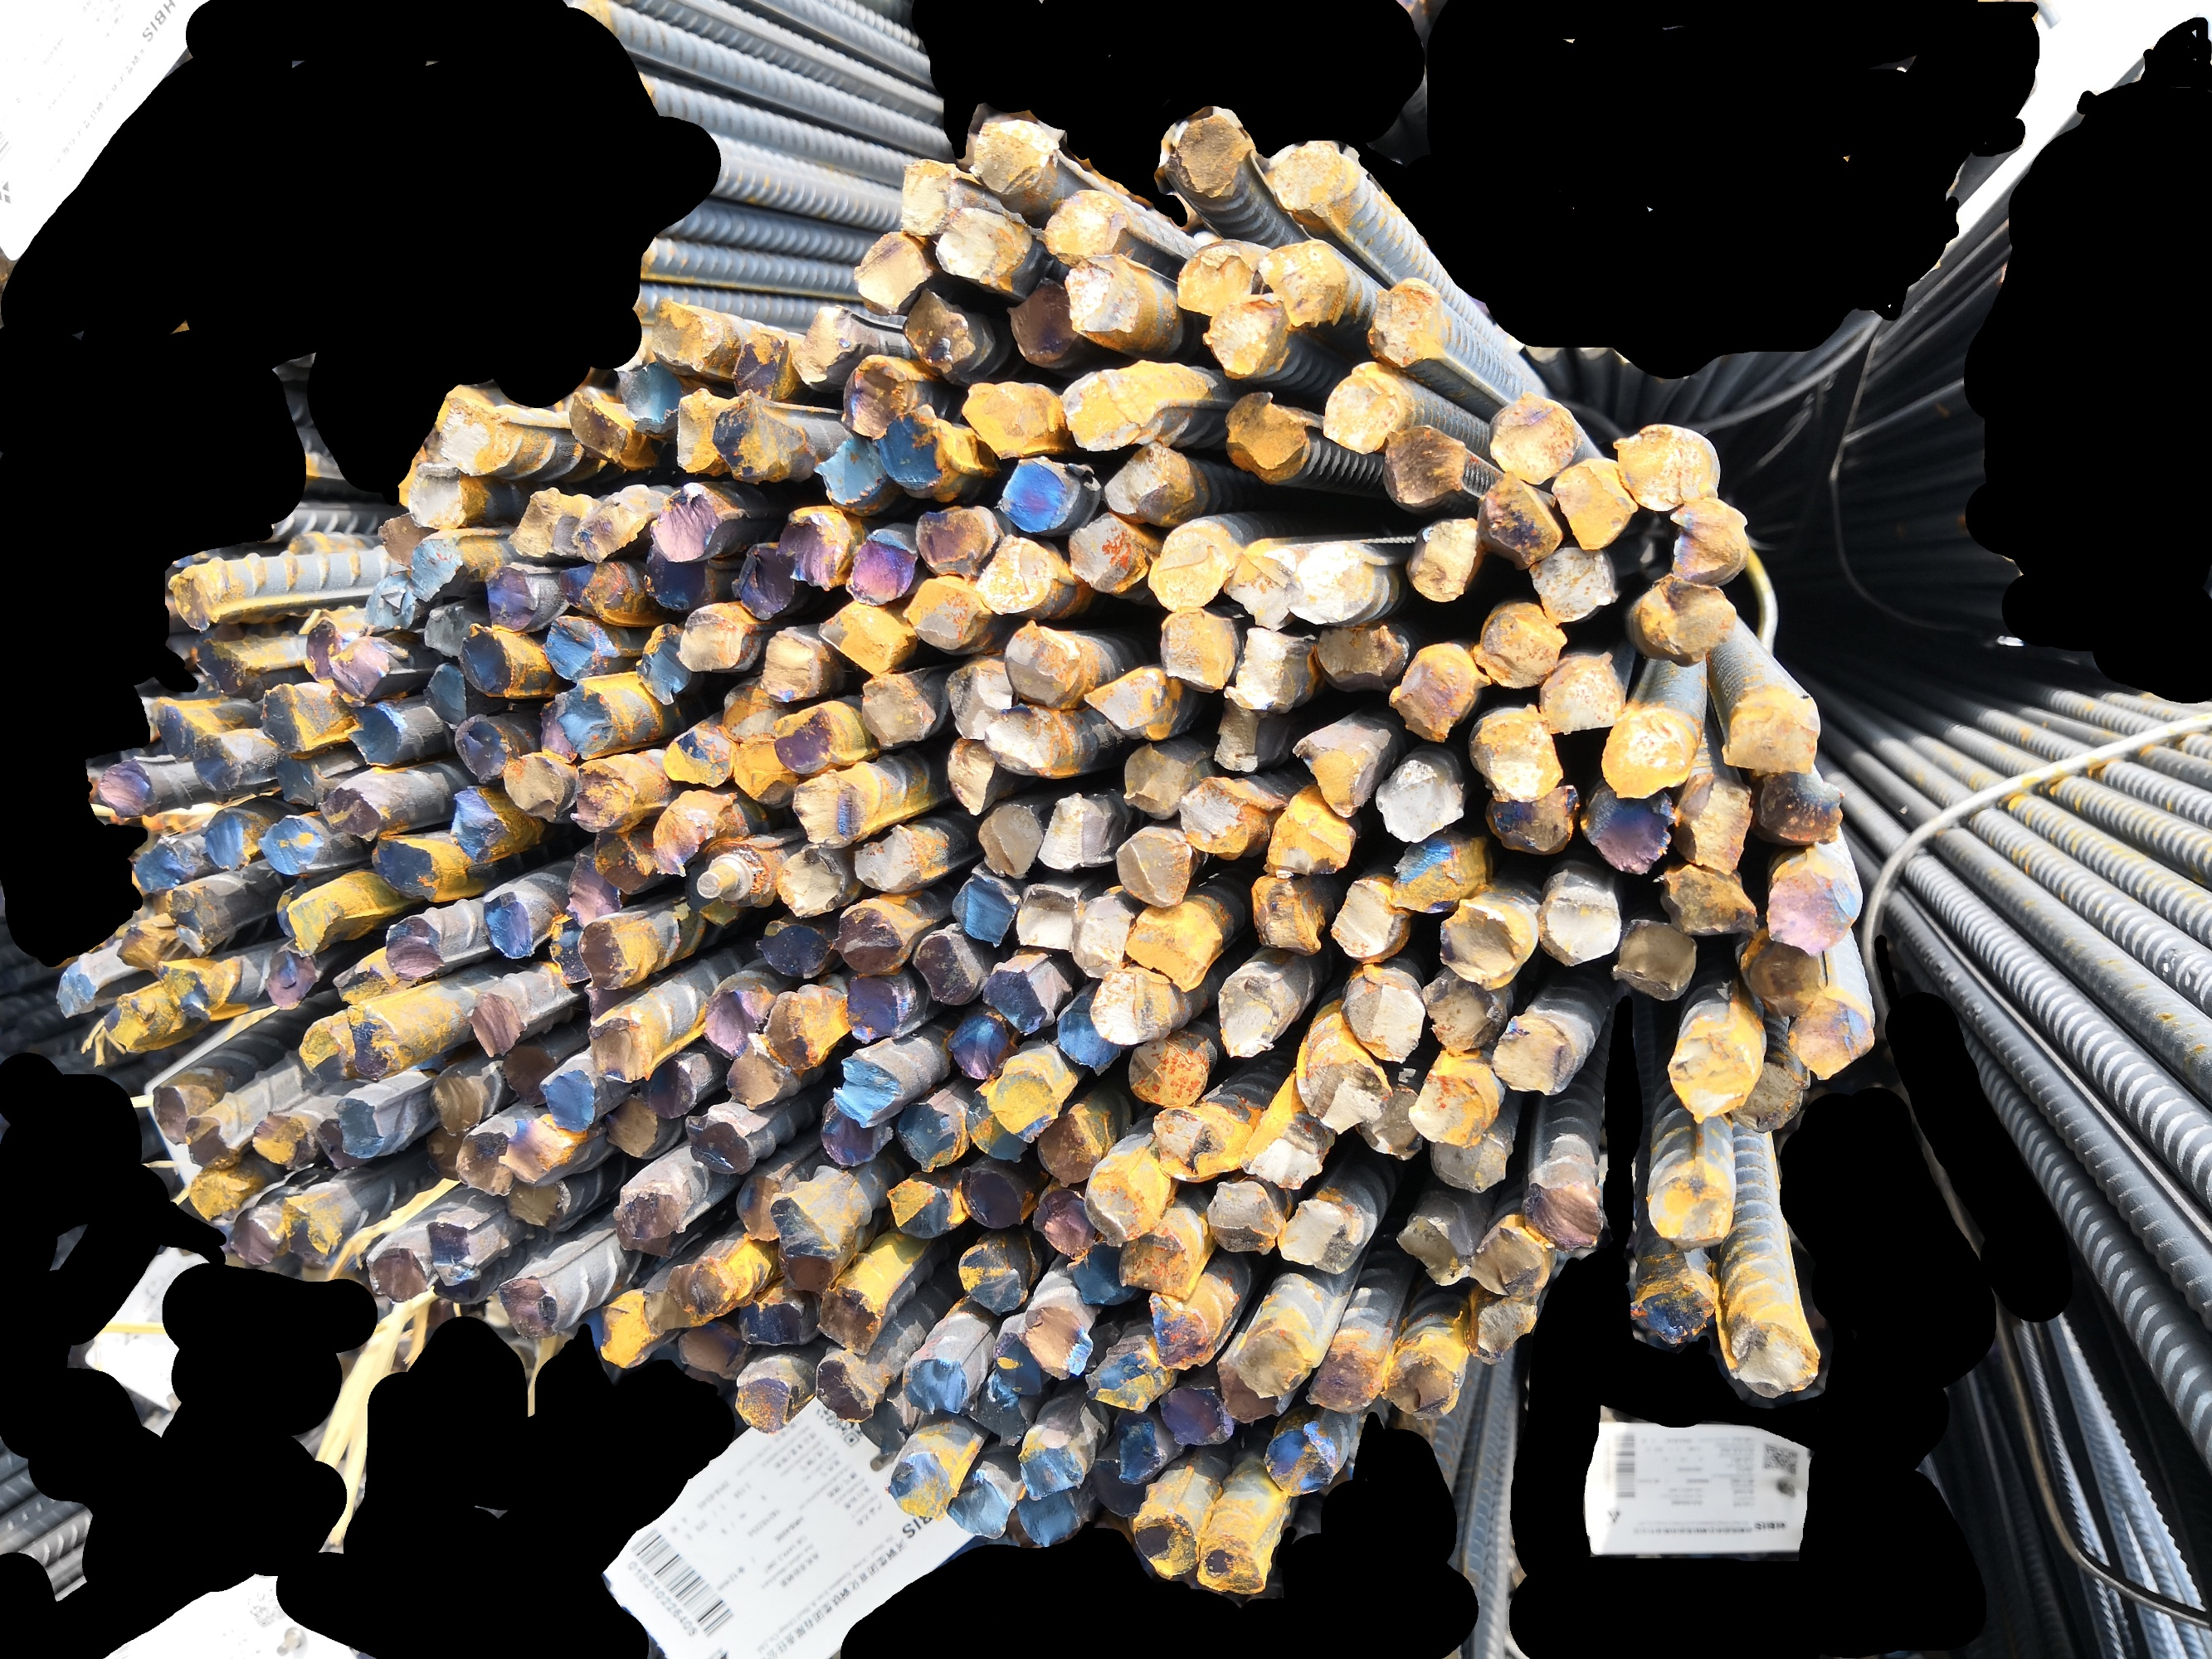rebar: (1386, 640, 1490, 742), (1056, 361, 1171, 451), (1612, 423, 1724, 511), (1469, 702, 1564, 803), (1436, 897, 1536, 992), (711, 389, 807, 484), (1471, 599, 1569, 694), (1665, 1023, 1759, 1121), (1126, 899, 1225, 992), (1389, 828, 1490, 917), (1485, 389, 1578, 484), (1635, 579, 1736, 666), (1147, 519, 1239, 613), (1581, 782, 1673, 877), (1764, 864, 1860, 955), (1286, 540, 1386, 627), (1375, 751, 1468, 843), (1602, 711, 1698, 800), (1225, 389, 1313, 486), (1724, 688, 1822, 775), (1164, 113, 1255, 206), (1084, 1152, 1171, 1248), (1727, 1312, 1823, 1399), (1476, 471, 1562, 568), (1318, 361, 1407, 453), (1264, 791, 1356, 880), (901, 284, 987, 380), (1551, 457, 1637, 552), (875, 403, 959, 500), (1100, 441, 1199, 523), (967, 117, 1060, 204), (1264, 235, 1349, 329), (1201, 293, 1292, 380), (1679, 774, 1755, 877), (976, 533, 1067, 619), (1788, 995, 1879, 1080), (1740, 927, 1825, 1018), (1344, 972, 1428, 1065), (1328, 871, 1410, 965), (816, 599, 915, 676), (1227, 624, 1314, 711), (1063, 253, 1147, 343), (1300, 1049, 1393, 1131), (960, 380, 1055, 460), (1365, 277, 1443, 373), (1152, 1105, 1248, 1183), (1382, 423, 1468, 511), (1612, 917, 1700, 1002), (903, 572, 992, 655), (1647, 1166, 1736, 1249), (995, 457, 1089, 535), (1006, 275, 1084, 369), (1483, 782, 1581, 857), (1490, 1011, 1576, 1096), (648, 483, 737, 565), (936, 204, 1018, 293), (1668, 498, 1750, 587), (1750, 770, 1844, 847), (1037, 186, 1133, 261), (1217, 967, 1292, 1063), (1272, 136, 1356, 221), (1178, 775, 1264, 859), (1539, 653, 1626, 735), (1292, 730, 1372, 819), (1659, 864, 1759, 936), (1081, 664, 1173, 741), (1232, 1323, 1325, 1399), (1225, 535, 1299, 631), (1421, 971, 1504, 1054), (1239, 1110, 1325, 1192), (439, 399, 526, 479), (1626, 1267, 1715, 1345), (763, 985, 840, 1075), (652, 795, 732, 880), (1159, 605, 1238, 692), (1529, 545, 1618, 622), (790, 767, 872, 849), (1539, 885, 1621, 967), (1091, 967, 1175, 1047), (1471, 1218, 1551, 1302), (854, 228, 933, 314), (838, 350, 915, 437), (1002, 620, 1077, 709), (770, 504, 844, 594), (1408, 514, 1482, 605), (1407, 1072, 1497, 1145), (648, 295, 729, 376), (858, 666, 938, 748), (1112, 826, 1191, 910), (1727, 1058, 1811, 1136), (1520, 1175, 1605, 1251), (811, 432, 889, 514), (831, 896, 913, 974), (1069, 512, 1145, 596), (1175, 239, 1260, 314), (830, 1047, 908, 1127), (1246, 875, 1325, 955), (1262, 1419, 1342, 1497), (575, 915, 657, 992), (915, 505, 997, 582), (1279, 1199, 1361, 1276), (729, 322, 804, 406), (952, 1239, 1030, 1317), (1391, 1209, 1469, 1288), (772, 704, 856, 777), (767, 1185, 847, 1260), (980, 957, 1055, 1037), (985, 706, 1065, 781), (1382, 1347, 1462, 1422), (722, 1030, 793, 1114), (1086, 1345, 1173, 1413), (1124, 1039, 1211, 1107), (791, 301, 858, 390), (844, 528, 920, 605), (1204, 1178, 1279, 1256), (368, 833, 448, 906), (727, 540, 800, 620), (694, 836, 774, 910), (1053, 988, 1121, 1073), (947, 653, 1013, 741), (282, 887, 359, 962), (570, 488, 647, 563), (1020, 1302, 1093, 1380), (1313, 626, 1401, 690), (974, 798, 1044, 880), (164, 885, 239, 960), (985, 1068, 1060, 1143), (757, 626, 828, 704), (1147, 1293, 1218, 1371), (1121, 742, 1192, 821), (497, 1115, 577, 1185), (1119, 1230, 1199, 1300), (167, 561, 242, 634), (772, 843, 845, 918), (851, 821, 924, 896), (1014, 1425, 1089, 1499), (676, 603, 755, 673), (1069, 892, 1131, 979), (1037, 793, 1105, 873), (964, 1084, 1027, 1169), (586, 1011, 655, 1087), (683, 1107, 760, 1176), (818, 1096, 894, 1166), (1028, 1182, 1096, 1260), (950, 868, 1018, 946), (633, 622, 694, 709), (1035, 1108, 1100, 1190), (640, 547, 723, 610), (887, 1450, 960, 1521), (565, 390, 633, 467), (1065, 1239, 1142, 1307), (1306, 1345, 1382, 1413), (1422, 1134, 1513, 1192), (600, 1284, 661, 1370), (444, 784, 511, 863), (912, 929, 978, 1007), (553, 680, 617, 760), (558, 559, 640, 622), (899, 157, 962, 239), (615, 361, 687, 432), (1468, 1295, 1541, 1364), (844, 969, 912, 1044), (457, 624, 523, 701), (701, 979, 767, 1056), (675, 1317, 753, 1382), (424, 1211, 486, 1291), (608, 1180, 690, 1241), (947, 1009, 1016, 1080), (462, 985, 530, 1058), (570, 762, 638, 835), (404, 460, 472, 533), (812, 1279, 880, 1352), (1361, 1084, 1426, 1161), (347, 1002, 410, 1080), (755, 917, 833, 979), (328, 633, 397, 702), (1215, 1356, 1285, 1425), (540, 613, 608, 685), (899, 1349, 971, 1417), (959, 1162, 1030, 1230), (152, 957, 225, 1023), (451, 711, 518, 784), (502, 751, 568, 824), (896, 1100, 962, 1173), (1133, 1506, 1199, 1579), (673, 385, 725, 477), (659, 725, 736, 788), (730, 1168, 791, 1246), (382, 911, 448, 983), (195, 633, 267, 699), (497, 1270, 563, 1342), (885, 1173, 957, 1239), (277, 1192, 340, 1267), (481, 558, 542, 634), (967, 1371, 1028, 1448), (479, 885, 539, 964), (427, 1060, 486, 1138), (256, 812, 324, 880), (948, 1471, 1014, 1540), (1110, 1405, 1168, 1485), (593, 824, 657, 896), (1016, 884, 1081, 955), (506, 488, 568, 561), (258, 683, 319, 758), (563, 852, 624, 927), (1211, 699, 1272, 774), (676, 861, 743, 929), (732, 1368, 798, 1436), (1016, 1480, 1082, 1547), (200, 807, 270, 871), (537, 1063, 601, 1133), (321, 781, 392, 843), (345, 699, 408, 770), (718, 681, 791, 742), (455, 1124, 514, 1199), (772, 1230, 838, 1297), (732, 739, 797, 807), (1089, 1452, 1154, 1520), (1196, 1535, 1267, 1596), (408, 532, 467, 605), (945, 735, 999, 816), (500, 1035, 558, 1110), (666, 1258, 743, 1314), (736, 1295, 812, 1351), (363, 1243, 429, 1307), (812, 1356, 879, 1420), (296, 1014, 356, 1086), (992, 1324, 1048, 1399), (227, 1204, 291, 1269), (94, 755, 159, 819), (601, 1094, 664, 1161), (190, 730, 251, 798), (361, 568, 418, 640), (248, 1107, 310, 1171), (103, 990, 164, 1054), (131, 835, 195, 896), (263, 946, 324, 1011), (188, 1166, 258, 1222), (152, 694, 202, 767), (335, 1094, 387, 1164), (328, 962, 404, 1009), (504, 1176, 568, 1232), (640, 1279, 706, 1333), (185, 1114, 246, 1171), (645, 1058, 701, 1121), (375, 507, 427, 573), (420, 1122, 474, 1185), (420, 660, 471, 727), (418, 601, 478, 657), (146, 1077, 193, 1147), (52, 957, 103, 1021), (549, 913, 593, 985), (584, 979, 647, 1028), (535, 697, 582, 762), (115, 924, 171, 978), (270, 755, 328, 807), (610, 1220, 680, 1262), (858, 1396, 910, 1452), (432, 1263, 493, 1307), (303, 617, 343, 683), (270, 880, 309, 939)
